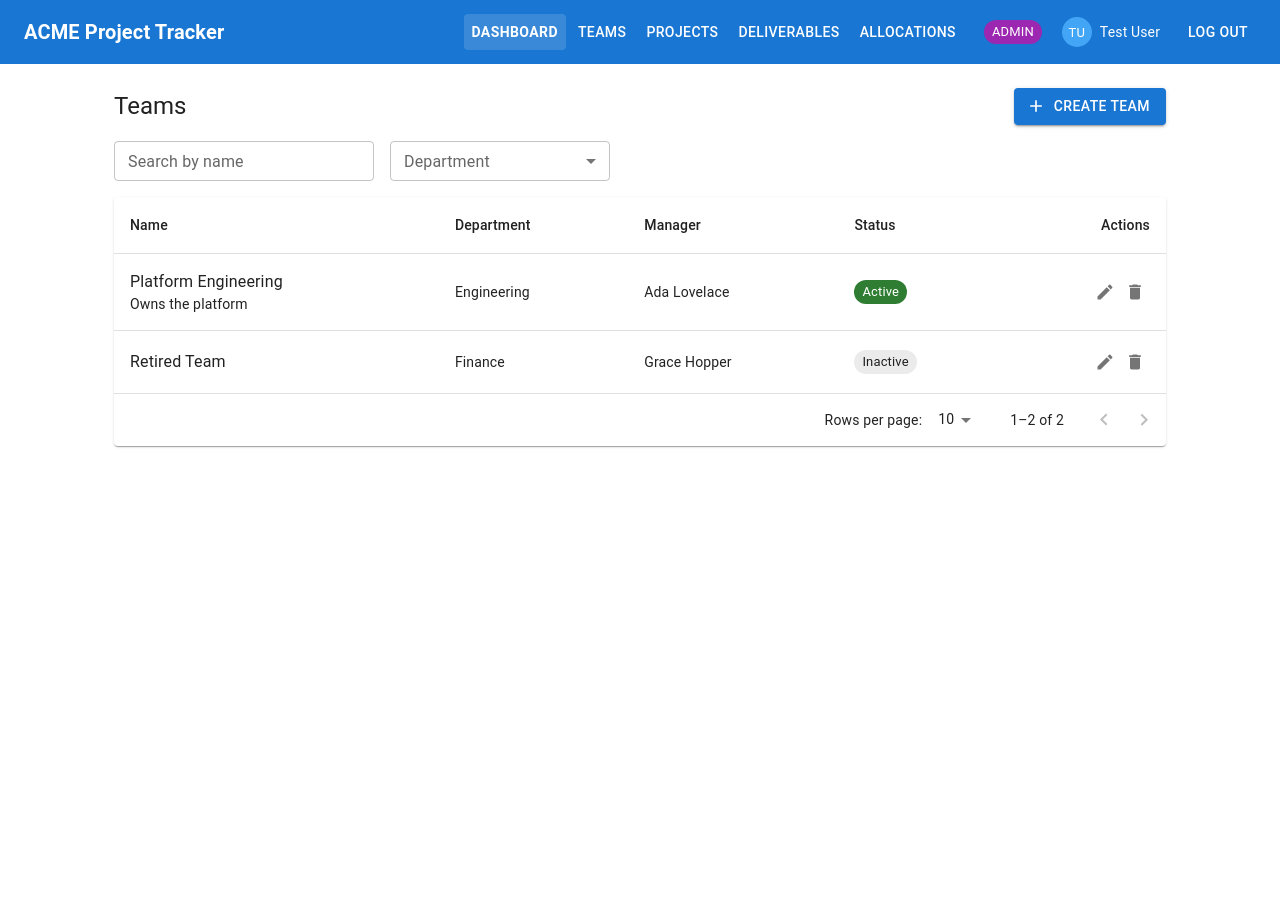
delete flow › confirms before deleting, then removes the team and shows a snackbar
Check: the text "Platform Engineering" is shown, box x1=130 y1=272 x2=283 y2=290
Click the 4th button at {"x": 1135, "y": 292}, box x1=1120 y1=276 x2=1150 y2=306
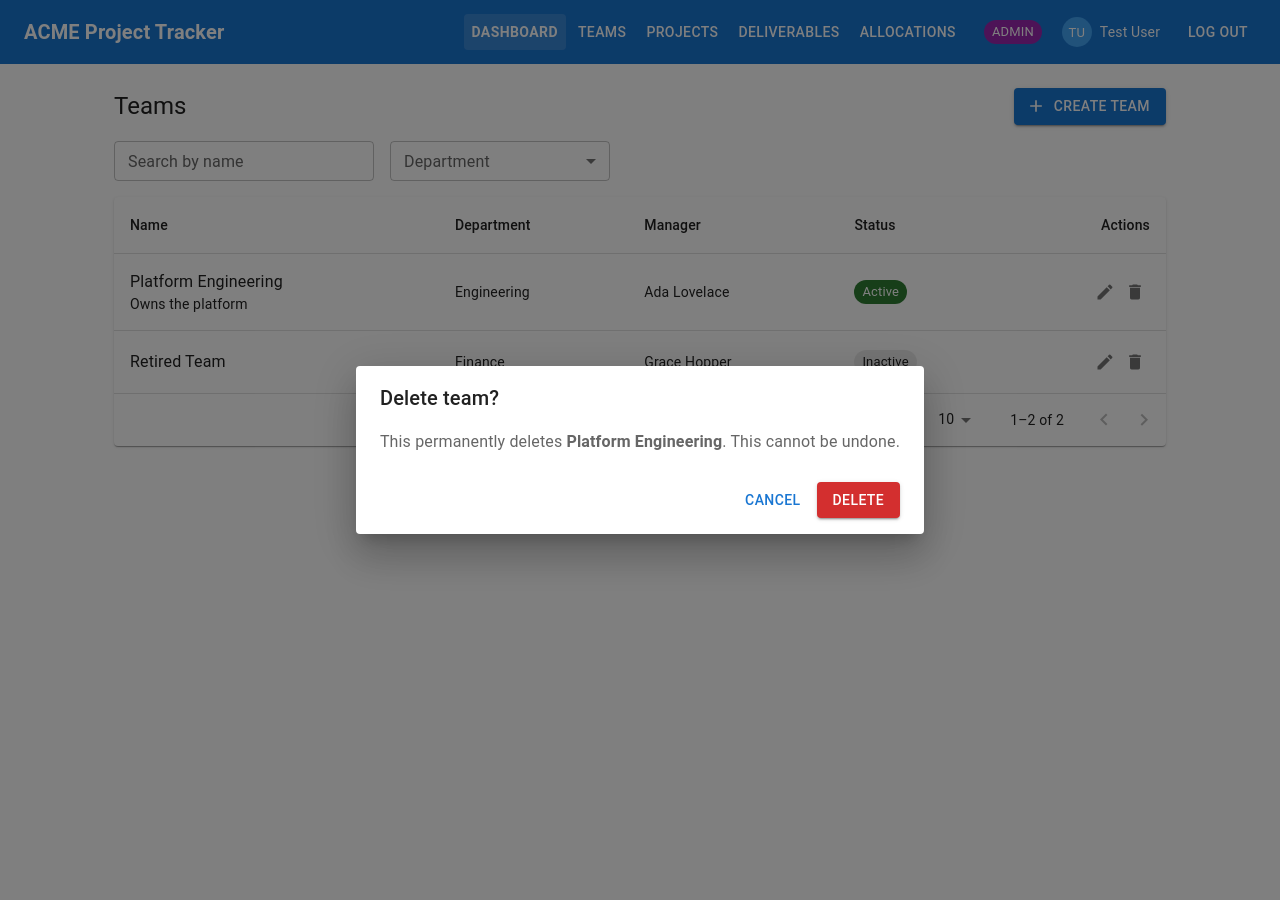
Check: the heading "Delete team?" is shown, box x1=380 y1=386 x2=499 y2=410
Click the button "Delete" at {"x": 858, "y": 500}, box x1=816 y1=482 x2=900 y2=518
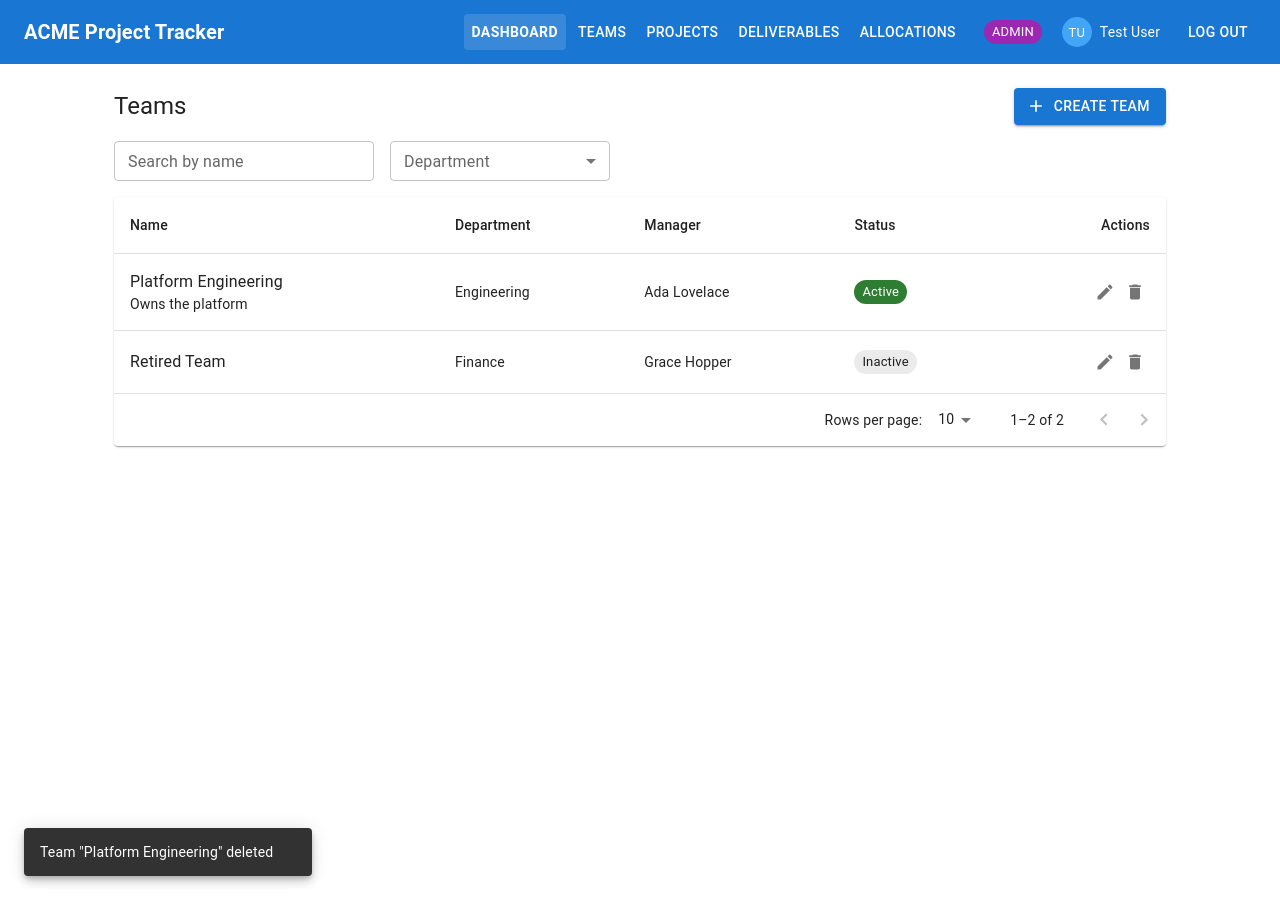
Check: the text "Team \"Platform Engineering\" deleted" is shown, box x1=40 y1=844 x2=273 y2=860
